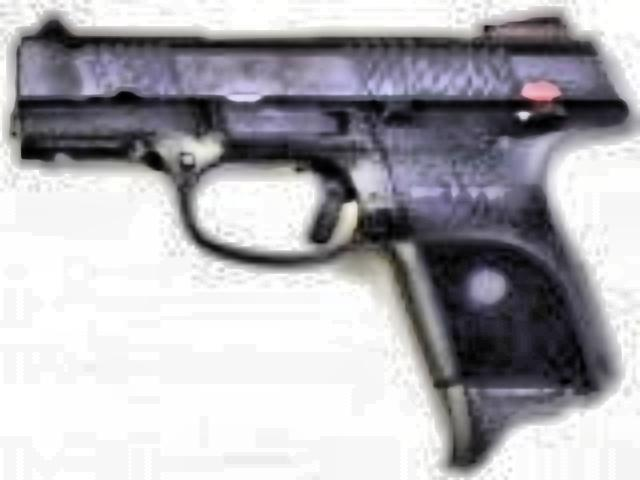pistol: (0, 12, 616, 456)
